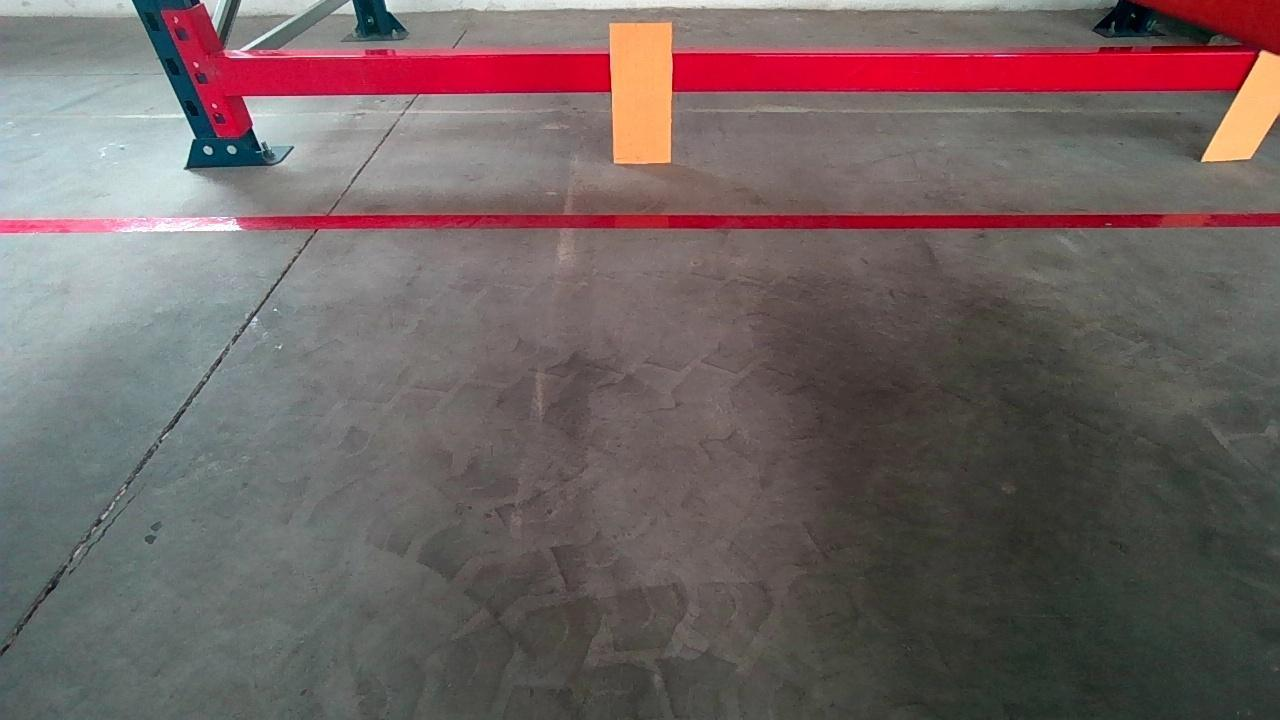h_rack: (232, 39, 1228, 97)
orange_strip: (610, 22, 674, 163), (1206, 46, 1280, 159)
red_line: (3, 205, 1274, 238)
